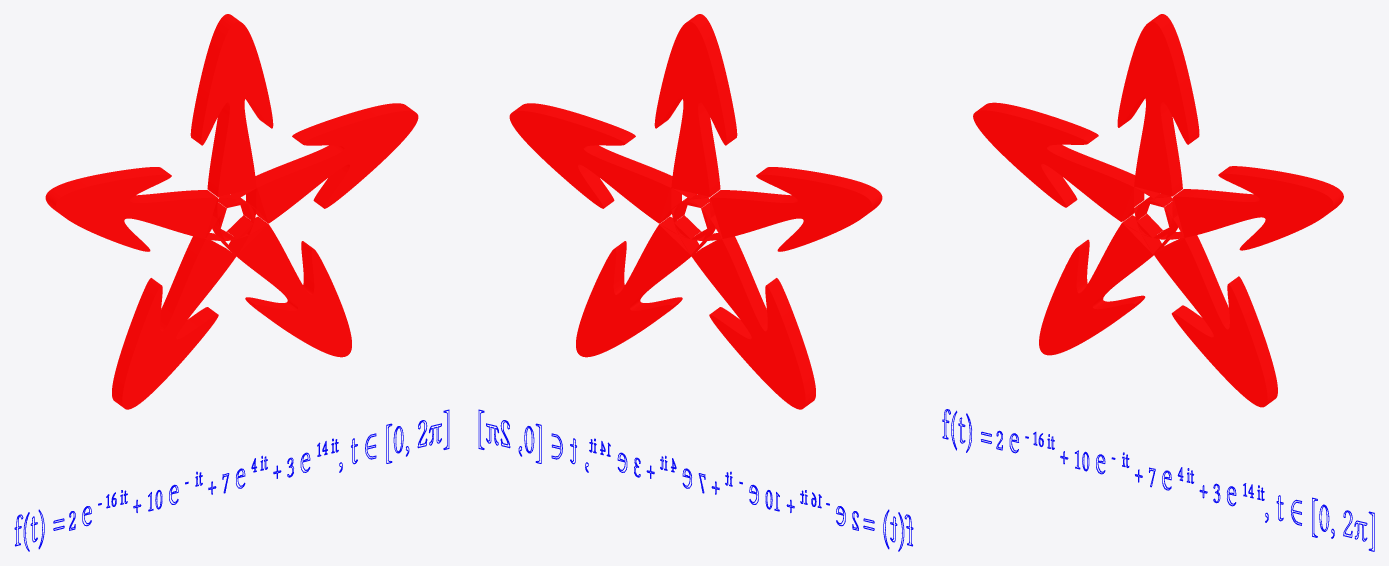
File: SimpleBeauty46.glb
3 views of the same model, side by side, from view 1: azimuth 30°, elevation 25°; view 2: azimuth 150°, elevation 25°; view 3: azimuth 330°, elevation 25° (orthographic).
Bounding box in the file's own units: 1.2 × 1.28 × 0.05.
